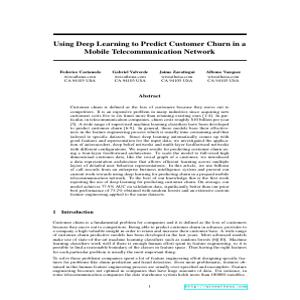text: (46, 62, 249, 280), (49, 32, 251, 62)
